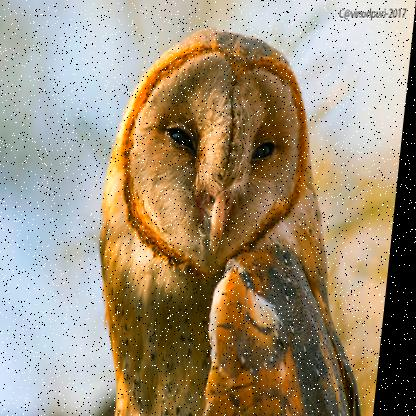Burung: (88, 27, 403, 415)
